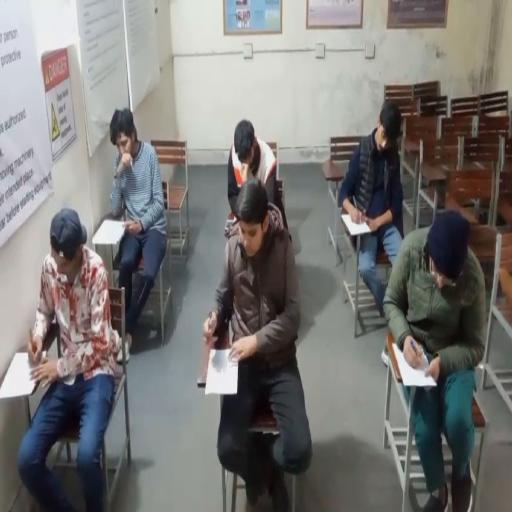paper: (395, 342, 436, 388), (0, 352, 40, 398), (204, 348, 238, 394), (92, 219, 128, 245), (342, 212, 374, 236)
